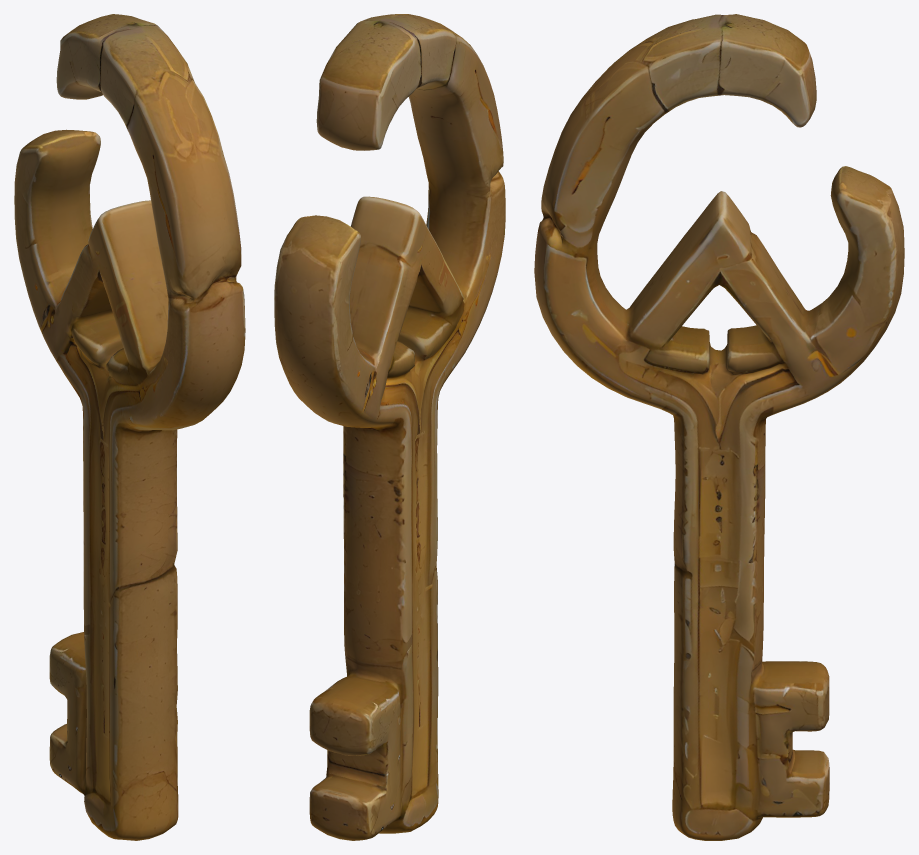
File: golden+ancient+key+3d+model.obj
3 renders of one model, left to right at view 1: azimuth 30°, elevation 25°; view 2: azimuth 150°, elevation 25°; view 3: azimuth 270°, elevation 25°, orthographic.
Visible parts, largest first — view 1: tripo_node_054406df; view 2: tripo_node_054406df; view 3: tripo_node_054406df.
Part boxes in pixels (bbox=[...]): tripo_node_054406df: bbox=[14, 14, 245, 840]; tripo_node_054406df: bbox=[274, 14, 505, 840]; tripo_node_054406df: bbox=[534, 14, 904, 840].
Bounding box in the file's own units: 8.2 × 99.93 × 41.34.
1 material, 1 textured.
